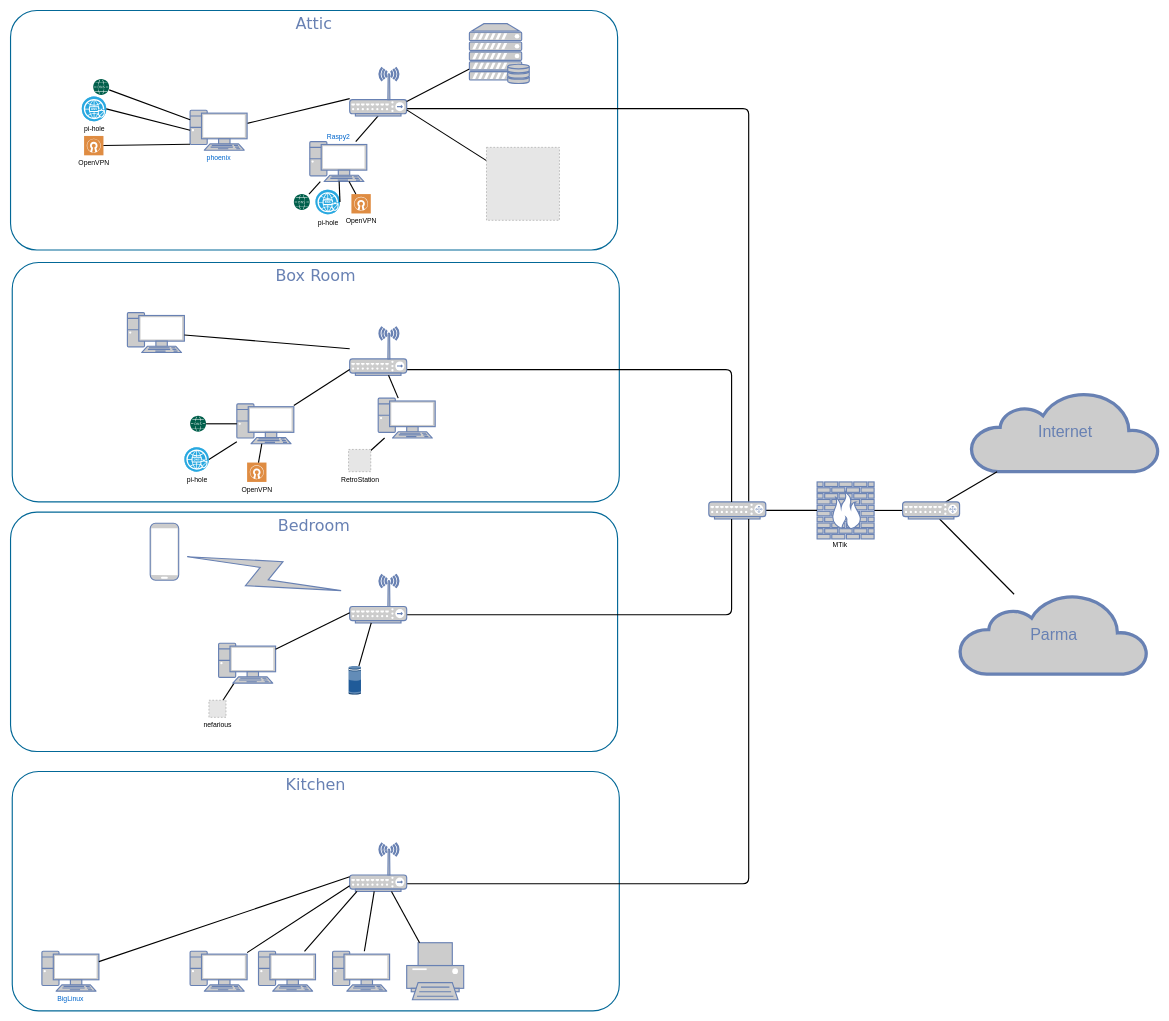
The diagram is 1169 pixels wide and 1021 high, and some of its shapes have lost their labels. Grey dashed boxes stand in for pictures. Here are the shapes that lost their labels. From the top down, the centre of each, then its label:
point 499,53: Nas1
point 156,332: Work
point 265,423: Raspy3
point 406,417: RaspyKey
point 378,598: Amplifi
point 247,662: BigPop
point 354,680: Echo e riverbero
